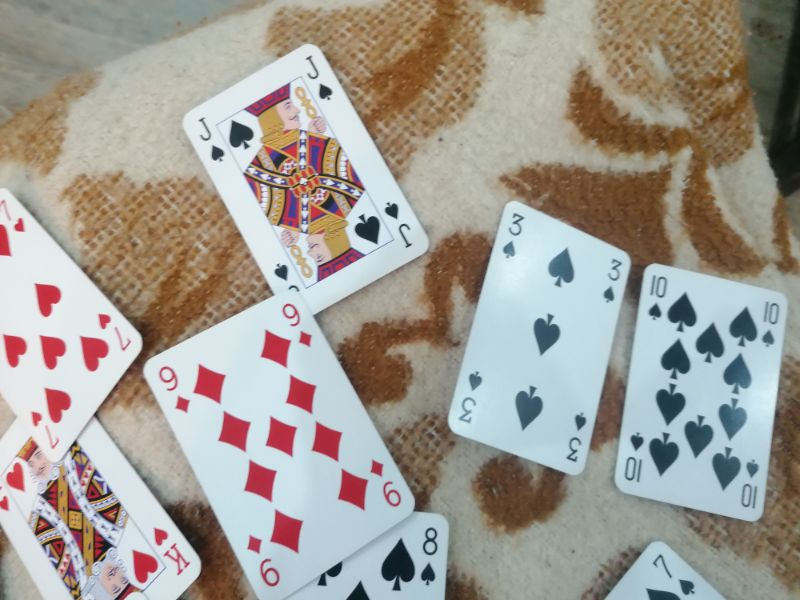3s: (456, 368, 486, 425), (562, 409, 591, 466), (501, 211, 528, 264), (599, 258, 625, 305)
7h: (95, 309, 137, 354), (27, 408, 64, 451)
7s: (651, 551, 697, 598)
8s: (419, 521, 441, 590)
9d: (243, 532, 285, 587), (155, 364, 194, 414), (278, 300, 316, 350), (366, 458, 404, 507)
Js: (299, 51, 335, 104), (380, 199, 416, 250), (193, 114, 227, 164)
Kh: (149, 524, 193, 577)
Ts: (737, 456, 767, 513), (622, 428, 648, 484), (645, 274, 670, 321), (758, 297, 780, 350)
